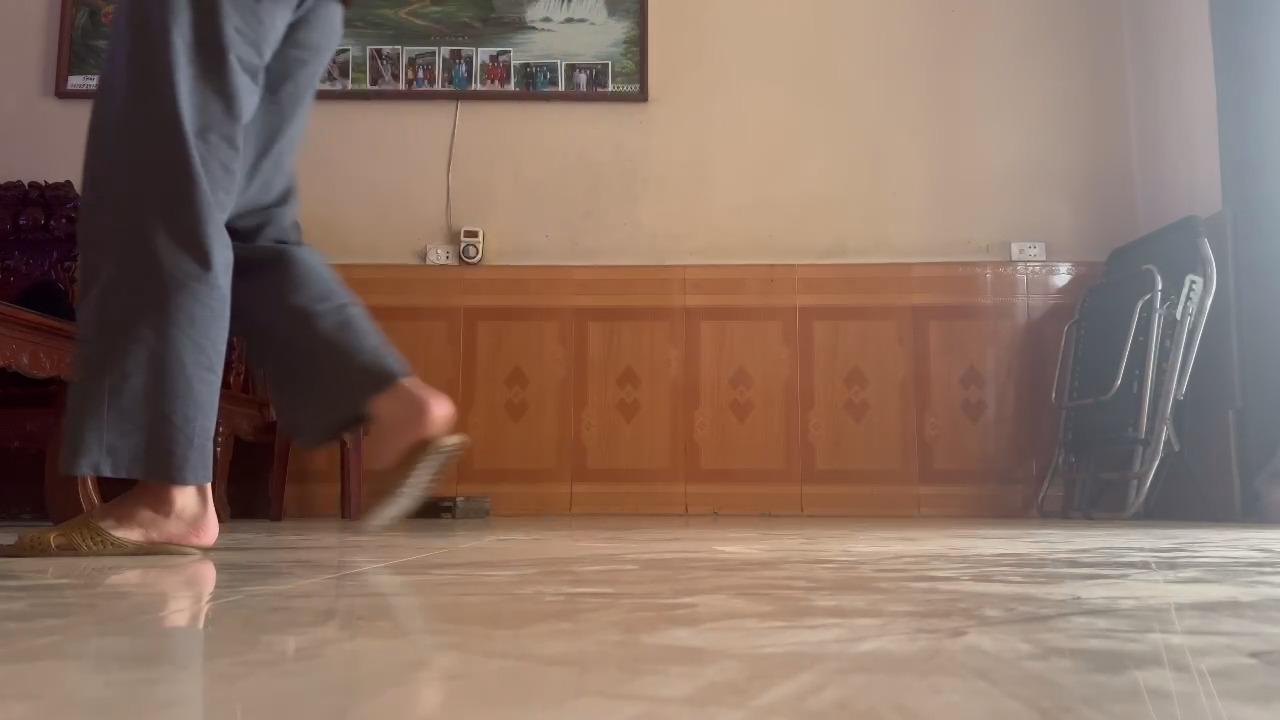no-boot: (326, 382, 482, 537), (0, 485, 232, 567)
